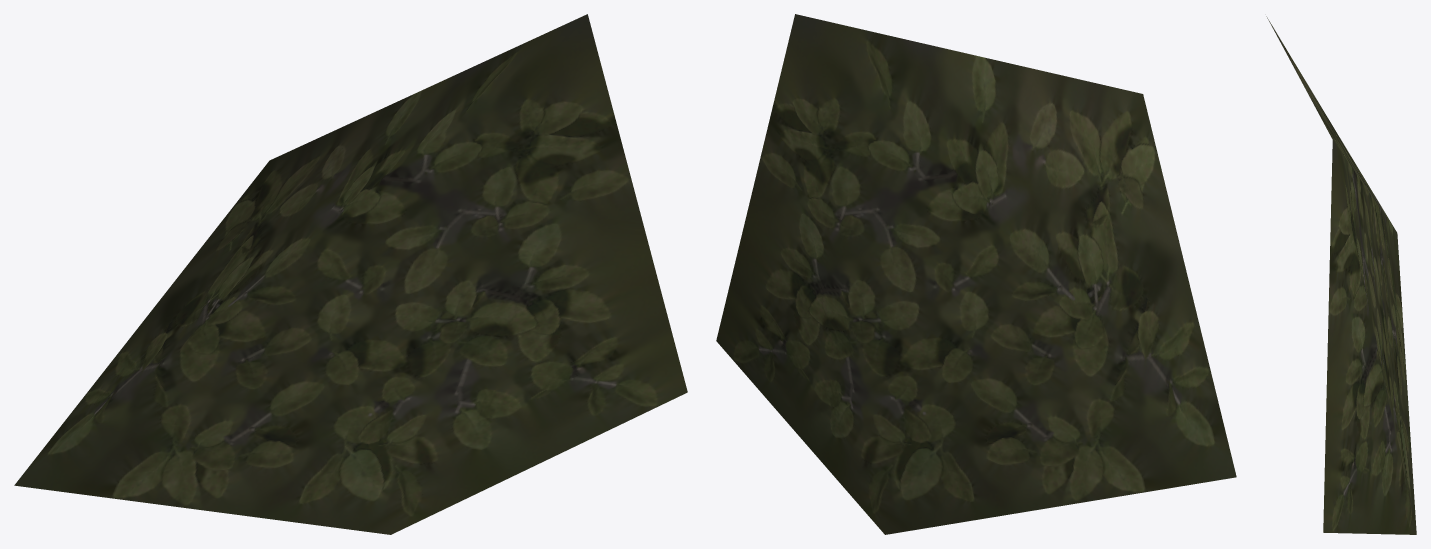
The model's file is TI_Tree_Branch_Part_06.fbx.
3 views of the same model, side by side, from view 1: azimuth 30°, elevation 25°; view 2: azimuth 150°, elevation 25°; view 3: azimuth 270°, elevation 25° (orthographic). The views are drawn at different scales.
Visible parts, largest first — view 1: TI_Tree_Branch_Part_06; view 2: TI_Tree_Branch_Part_06; view 3: TI_Tree_Branch_Part_06.
Part boxes in pixels (x1,y1,x2,y2): TI_Tree_Branch_Part_06: (14,14,687,534); TI_Tree_Branch_Part_06: (716,14,1236,534); TI_Tree_Branch_Part_06: (1266,16,1416,534).
Size of the model in its own units: 0.8774 by 0.689 by 0.2059.
